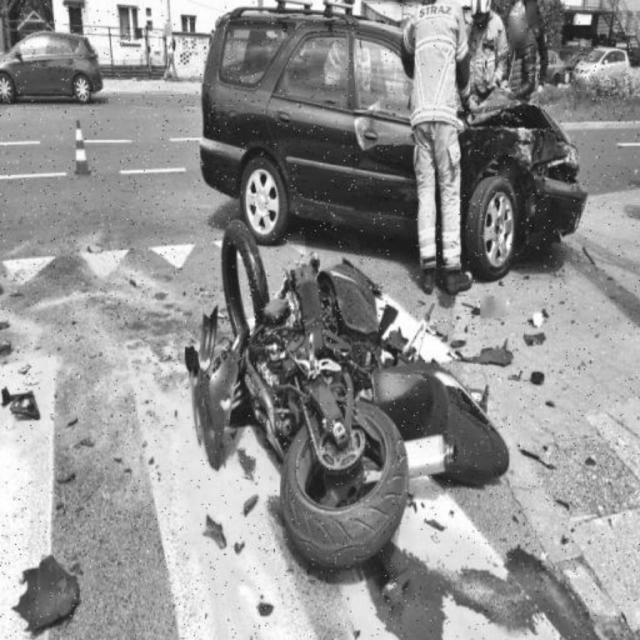person: (404, 0, 471, 292)
vehicle: (210, 1, 578, 249), (203, 244, 495, 554), (0, 27, 104, 100), (571, 46, 627, 83)
